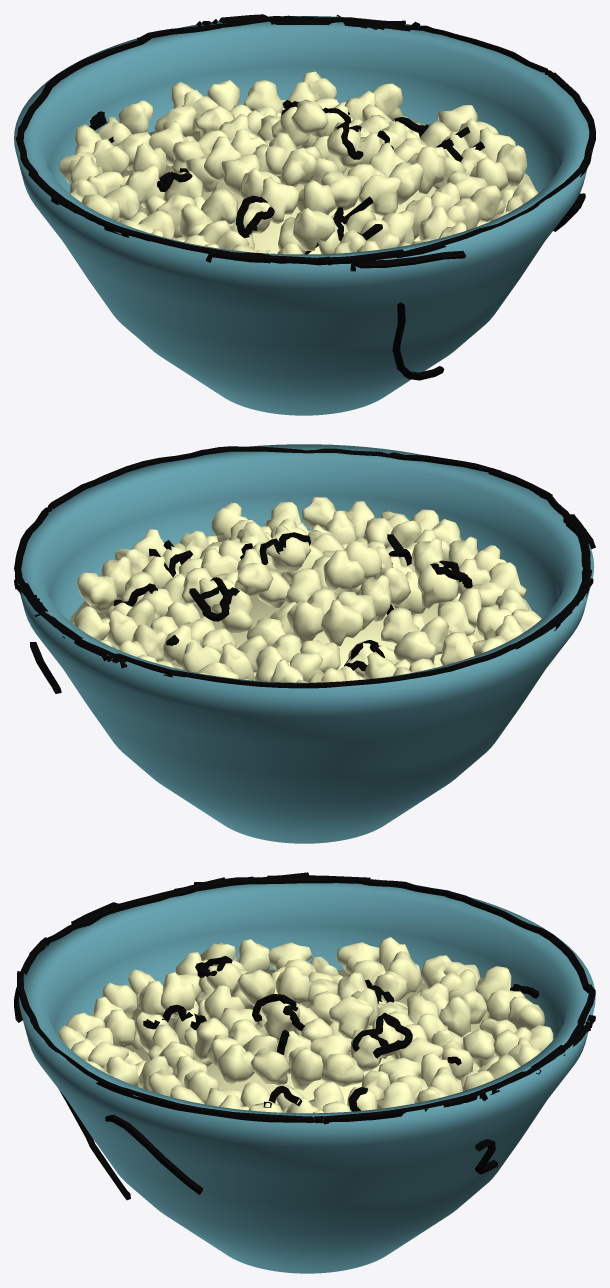
The model's file is popcorn.glb.
3 renders of one model, top to bottom at view 1: azimuth 30°, elevation 25°; view 2: azimuth 150°, elevation 25°; view 3: azimuth 270°, elevation 25°, orthographic.
Visible parts, largest first — view 1: popcorn_plate, lines_popcorn_puff, lines_popcorn; view 2: popcorn_plate, lines_popcorn_puff, lines_popcorn; view 3: popcorn_plate, lines_popcorn_puff, lines_popcorn.
Boxes of the visible parts, box(x1,y1,x2,y2) form: popcorn_plate: box(14, 16, 591, 415); lines_popcorn_puff: box(59, 71, 538, 254); lines_popcorn: box(16, 14, 595, 380); popcorn_plate: box(15, 444, 594, 843); lines_popcorn_puff: box(70, 497, 541, 682); lines_popcorn: box(14, 446, 595, 693); popcorn_plate: box(19, 879, 595, 1273); lines_popcorn_puff: box(58, 937, 553, 1113); lines_popcorn: box(14, 872, 595, 1200).
Size of the model in its own units: 0.514 by 0.2463 by 0.5143.
